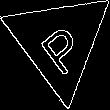P_NW: (31, 10, 88, 74)
